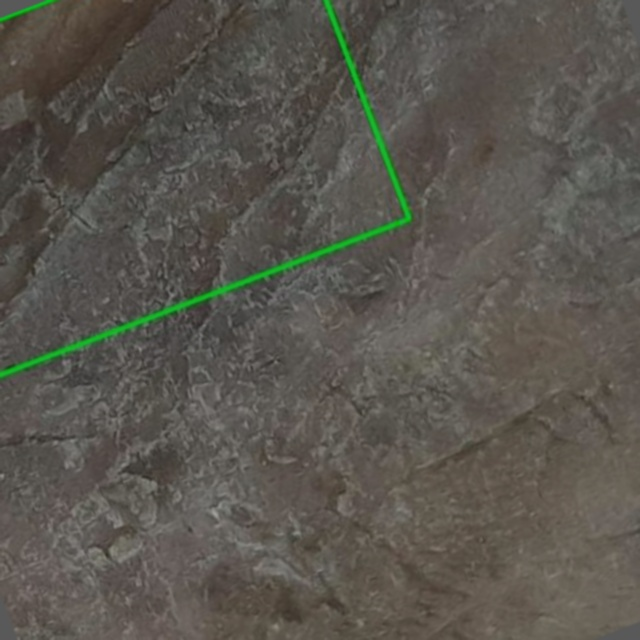Eczema: (0, 0, 409, 374)
